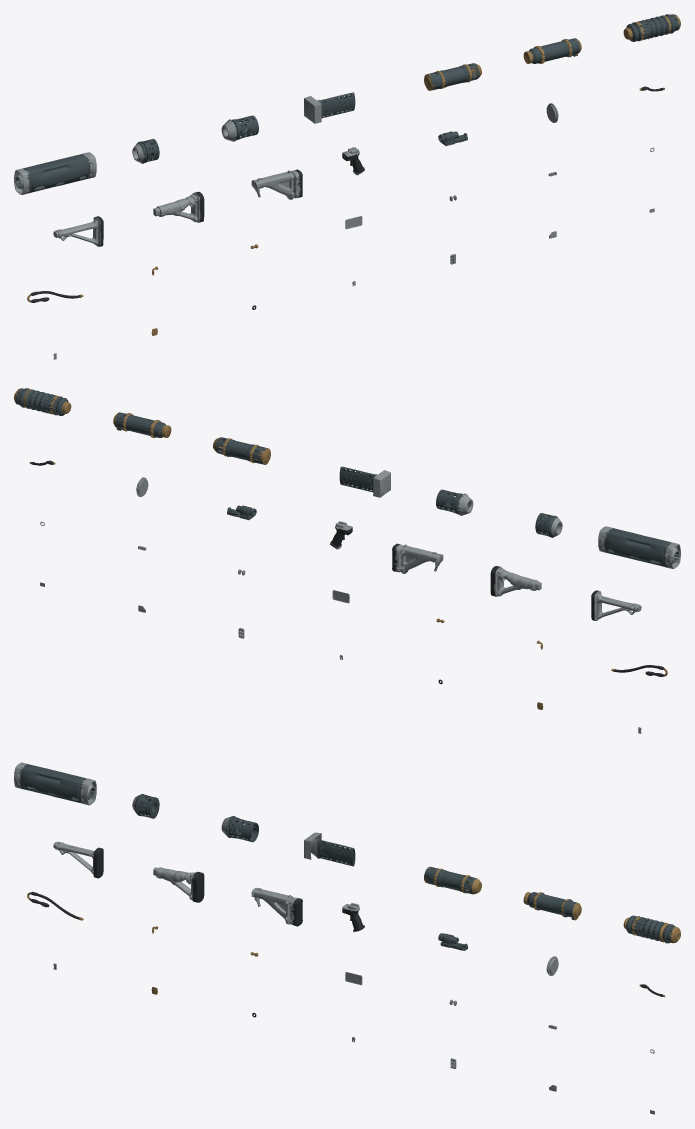
Rendered from component_library.glb.
3 renders of one model, top to bottom at view 1: azimuth 30°, elevation 25°; view 2: azimuth 150°, elevation 25°; view 3: azimuth 330°, elevation 25°, orthographic.
Visible parts, largest first — view 1: SM_TS_BrineMK1_Core_V02, SM_TS_BrineMK1_LowerReinforced_V02, SM_TS_BrineMK1_ShroudReach_V02, SM_TS_BrineMK1_BraceStabilized_V02, SM_TS_BrineMK1_LowerSalvage_V02, SM_TS_BrineMK1_LowerService_V02, SM_TS_BrineMK1_BracePadded_V02, SM_TS_BrineMK1_BraceSkeletal_V02, SM_TS_BrineMK1_ShroudStandard_V02, SM_TS_BrineMK1_ShroudCompact_V02; view 2: SM_TS_BrineMK1_Core_V02, SM_TS_BrineMK1_LowerReinforced_V02, SM_TS_BrineMK1_ShroudReach_V02, SM_TS_BrineMK1_LowerSalvage_V02, SM_TS_BrineMK1_BraceStabilized_V02, SM_TS_BrineMK1_LowerService_V02, SM_TS_BrineMK1_BracePadded_V02, SM_TS_BrineMK1_BraceSkeletal_V02, SM_TS_BrineMK1_ShroudStandard_V02, SM_TS_BrineMK1_ShroudCompact_V02; view 3: SM_TS_BrineMK1_Core_V02, SM_TS_BrineMK1_LowerReinforced_V02, SM_TS_BrineMK1_ShroudReach_V02, SM_TS_BrineMK1_BraceStabilized_V02, SM_TS_BrineMK1_LowerSalvage_V02, SM_TS_BrineMK1_BracePadded_V02, SM_TS_BrineMK1_LowerService_V02, SM_TS_BrineMK1_BraceSkeletal_V02, SM_TS_BrineMK1_ShroudStandard_V02, SM_TS_BrineMK1_ShroudCompact_V02.
Part boxes in pixels (bbox=[...]): SM_TS_BrineMK1_Core_V02: bbox=[14, 152, 96, 194]; SM_TS_BrineMK1_LowerReinforced_V02: bbox=[623, 14, 680, 41]; SM_TS_BrineMK1_ShroudReach_V02: bbox=[304, 92, 355, 123]; SM_TS_BrineMK1_BraceStabilized_V02: bbox=[251, 169, 302, 199]; SM_TS_BrineMK1_LowerSalvage_V02: bbox=[424, 63, 481, 90]; SM_TS_BrineMK1_LowerService_V02: bbox=[523, 38, 581, 63]; SM_TS_BrineMK1_BracePadded_V02: bbox=[153, 191, 204, 222]; SM_TS_BrineMK1_BraceSkeletal_V02: bbox=[53, 216, 103, 246]; SM_TS_BrineMK1_ShroudStandard_V02: bbox=[221, 115, 258, 141]; SM_TS_BrineMK1_ShroudCompact_V02: bbox=[132, 138, 159, 163]; SM_TS_BrineMK1_Core_V02: bbox=[598, 526, 680, 568]; SM_TS_BrineMK1_LowerReinforced_V02: bbox=[14, 388, 71, 415]; SM_TS_BrineMK1_ShroudReach_V02: bbox=[339, 466, 390, 497]; SM_TS_BrineMK1_LowerSalvage_V02: bbox=[213, 437, 270, 464]; SM_TS_BrineMK1_BraceStabilized_V02: bbox=[392, 543, 443, 573]; SM_TS_BrineMK1_LowerService_V02: bbox=[113, 412, 171, 437]; SM_TS_BrineMK1_BracePadded_V02: bbox=[490, 566, 541, 596]; SM_TS_BrineMK1_BraceSkeletal_V02: bbox=[591, 590, 641, 620]; SM_TS_BrineMK1_ShroudStandard_V02: bbox=[436, 489, 473, 515]; SM_TS_BrineMK1_ShroudCompact_V02: bbox=[535, 513, 562, 537]; SM_TS_BrineMK1_Core_V02: bbox=[14, 762, 96, 805]; SM_TS_BrineMK1_LowerReinforced_V02: bbox=[623, 915, 680, 943]; SM_TS_BrineMK1_ShroudReach_V02: bbox=[304, 832, 355, 866]; SM_TS_BrineMK1_BraceStabilized_V02: bbox=[251, 887, 302, 926]; SM_TS_BrineMK1_LowerSalvage_V02: bbox=[424, 866, 481, 894]; SM_TS_BrineMK1_BracePadded_V02: bbox=[153, 867, 204, 902]; SM_TS_BrineMK1_LowerService_V02: bbox=[523, 892, 581, 920]; SM_TS_BrineMK1_BraceSkeletal_V02: bbox=[53, 841, 103, 878]; SM_TS_BrineMK1_ShroudStandard_V02: bbox=[221, 816, 258, 842]; SM_TS_BrineMK1_ShroudCompact_V02: bbox=[132, 794, 159, 818].
Size of the model in its own units: 4.31 by 1.24 by 0.1217.
